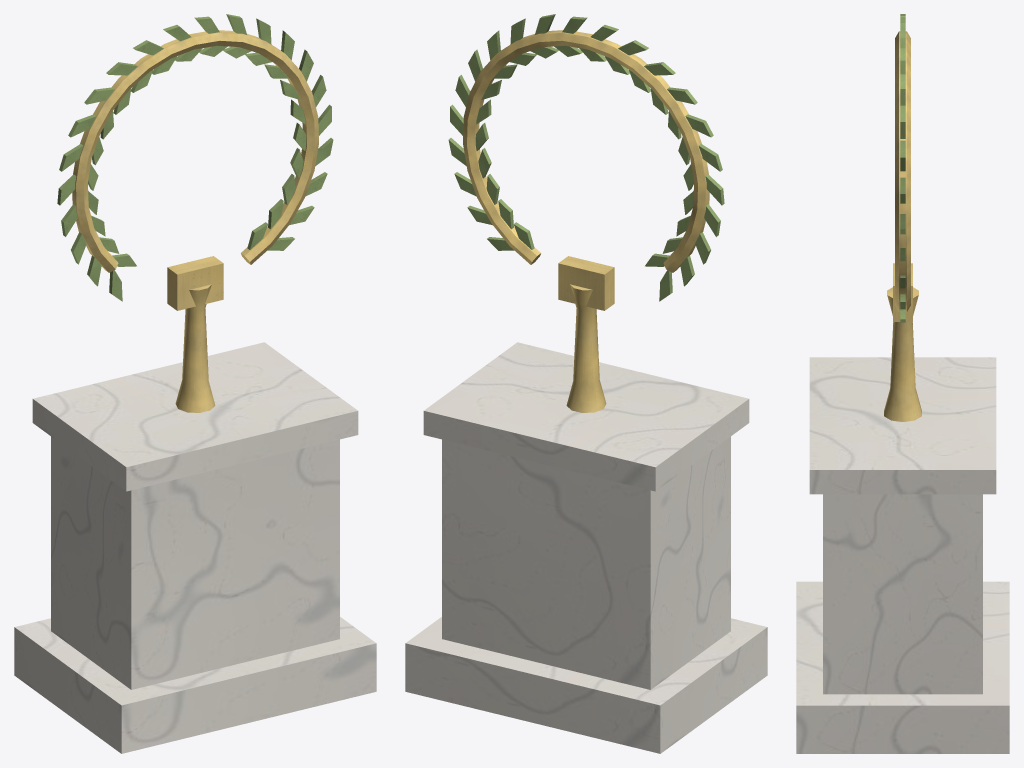
File: laurel_trophy.glb
3 renders of one model, left to right at view 1: azimuth 30°, elevation 25°; view 2: azimuth 150°, elevation 25°; view 3: azimuth 270°, elevation 25°, orthographic.
Parts seen in each view (by area): view 1: OUT; view 2: OUT; view 3: OUT.
Part boxes in pixels (<box>): OUT: <box>14,14,376,753</box>; OUT: <box>405,14,767,753</box>; OUT: <box>796,14,1009,753</box>.
Bounding box in the file's own units: 0.4719 × 1.1 × 0.32.
Materials: 3 (3 with a texture image).
